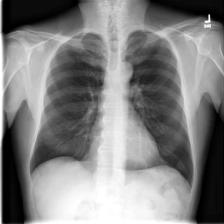normal: (25, 28, 198, 189)
